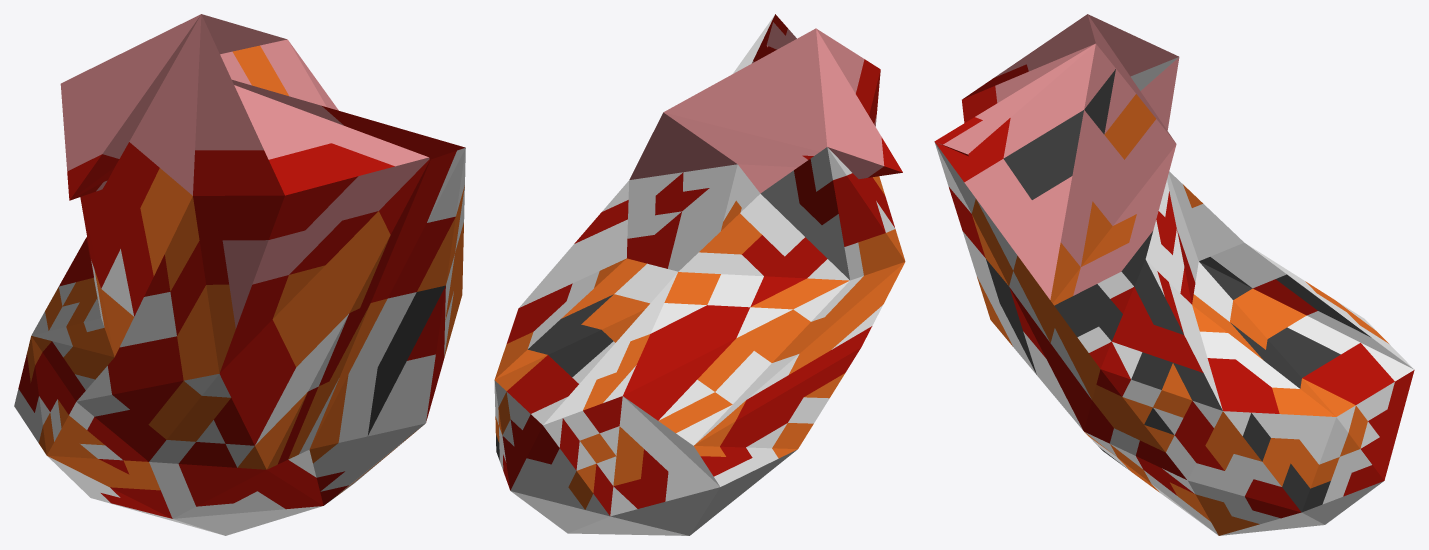
Rendered from meteor1.glb.
The picture shows the model from 3 angles, left to right: view 1: azimuth 30°, elevation 25°; view 2: azimuth 150°, elevation 25°; view 3: azimuth 270°, elevation 25°; orthographic projection. The views are drawn at different scales.
Parts seen in each view (by area): view 1: Icosphere; view 2: Icosphere; view 3: Icosphere.
Boxes of the visible parts, x1=… form: Icosphere: x1=14, y1=14, x2=465, y2=535; Icosphere: x1=494, y1=14, x2=905, y2=535; Icosphere: x1=934, y1=14, x2=1414, y2=535.
Bounding box in the file's own units: 30.39 × 41.51 × 39.41.
